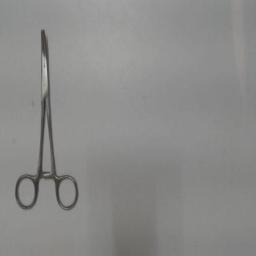Crile Artery Forceps: (11, 25, 83, 217)
